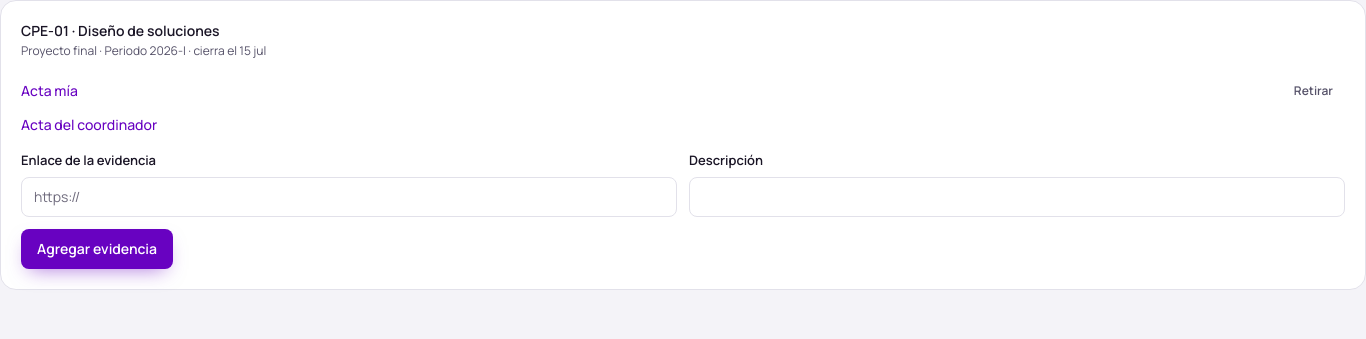
Test case: TarjetaEvaluacion — retirar › si el servidor rechaza el retiro muestra su mensaje
This screenshot has width=1366, height=339.
What coordinates should you click on to do the following:
click the button with aria-label "Retirar Acta mía"
I would click on:
 (1313, 91)
Its box is [1282, 75, 1345, 107].
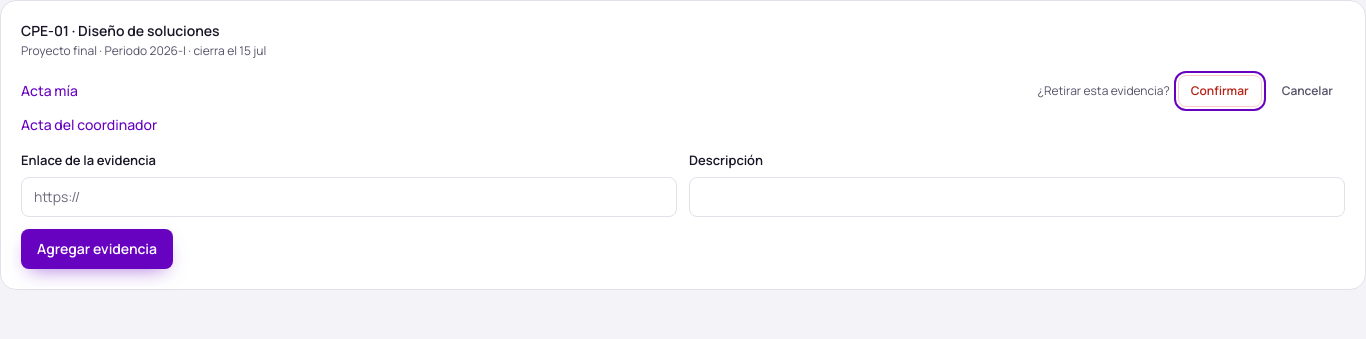
What coordinates should you click on to do the following:
click the button "Confirmar"
I would click on:
 (1220, 91)
Its box is [1178, 75, 1262, 107].
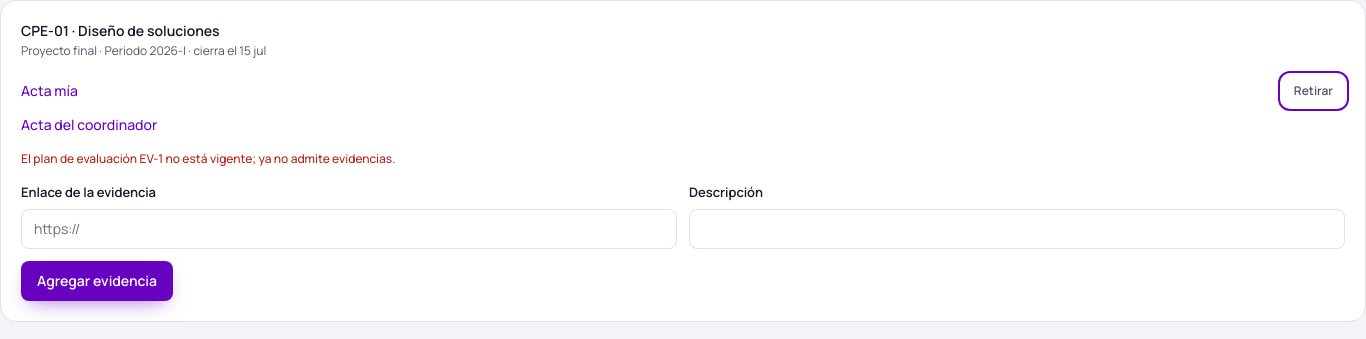
Expected: the message reads "El plan de evaluación EV-1 no está vigente; ya no admite evidencias.", [21, 150, 395, 167]
